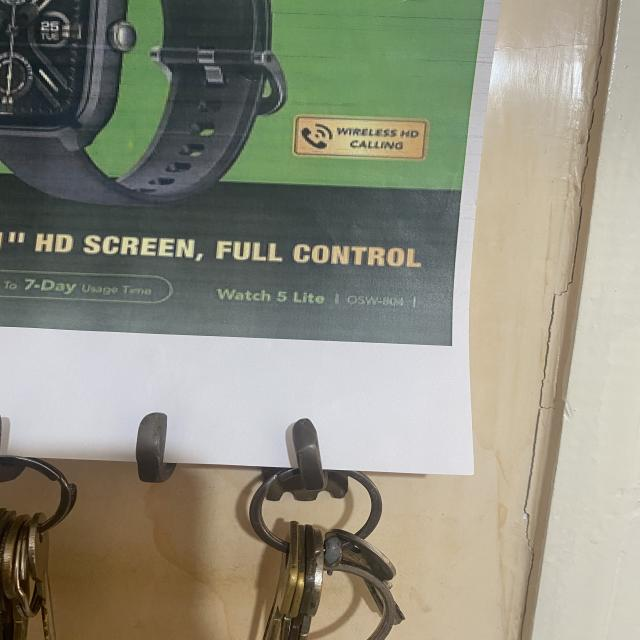Watch 5 Lite OSW-804: (214, 282, 425, 317)
